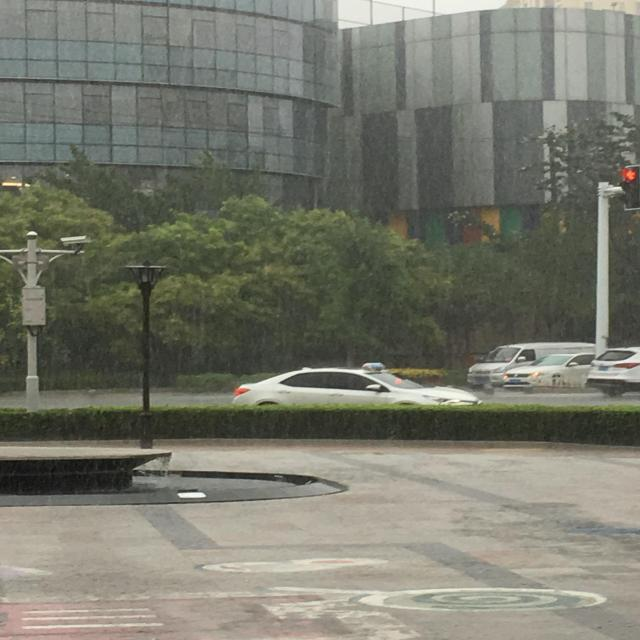car: (232, 362, 483, 406), (468, 342, 594, 388), (498, 353, 594, 390), (584, 346, 640, 394)
